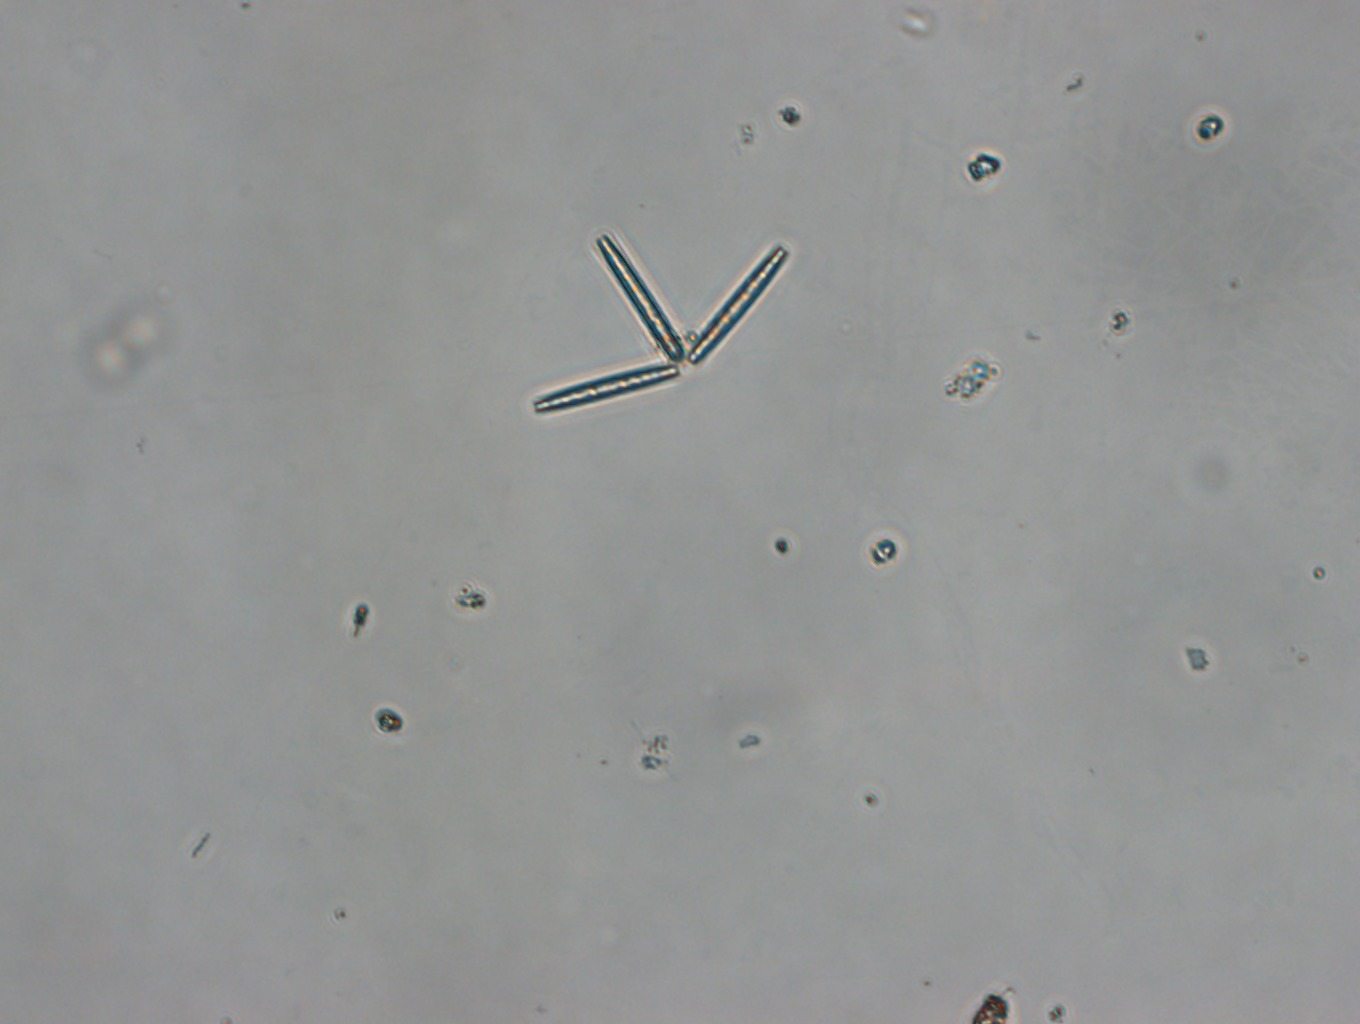thalassionema frauenfeldii: (528, 224, 792, 419)
